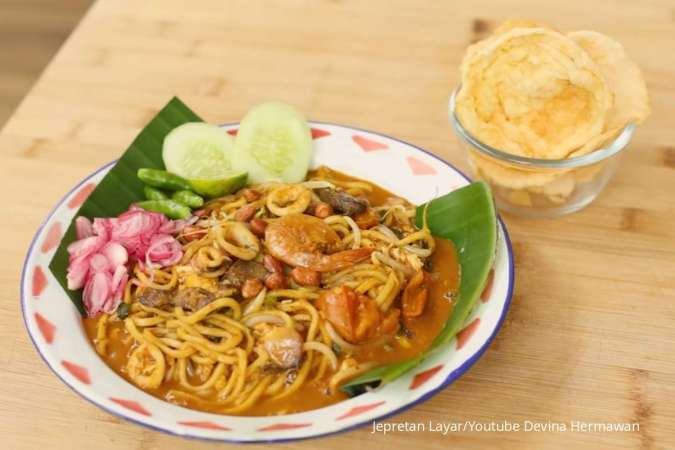Mie: (76, 175, 440, 404)
